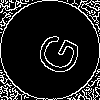G: (25, 25, 84, 81)
